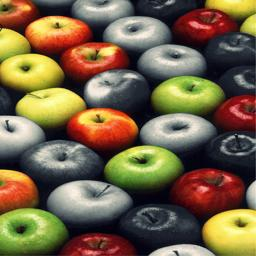Apple Fresh: (168, 163, 253, 224)
